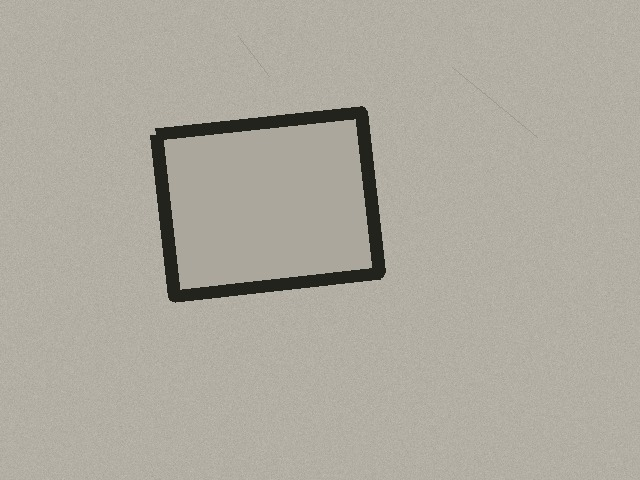parking_area: (156, 112, 379, 296)
